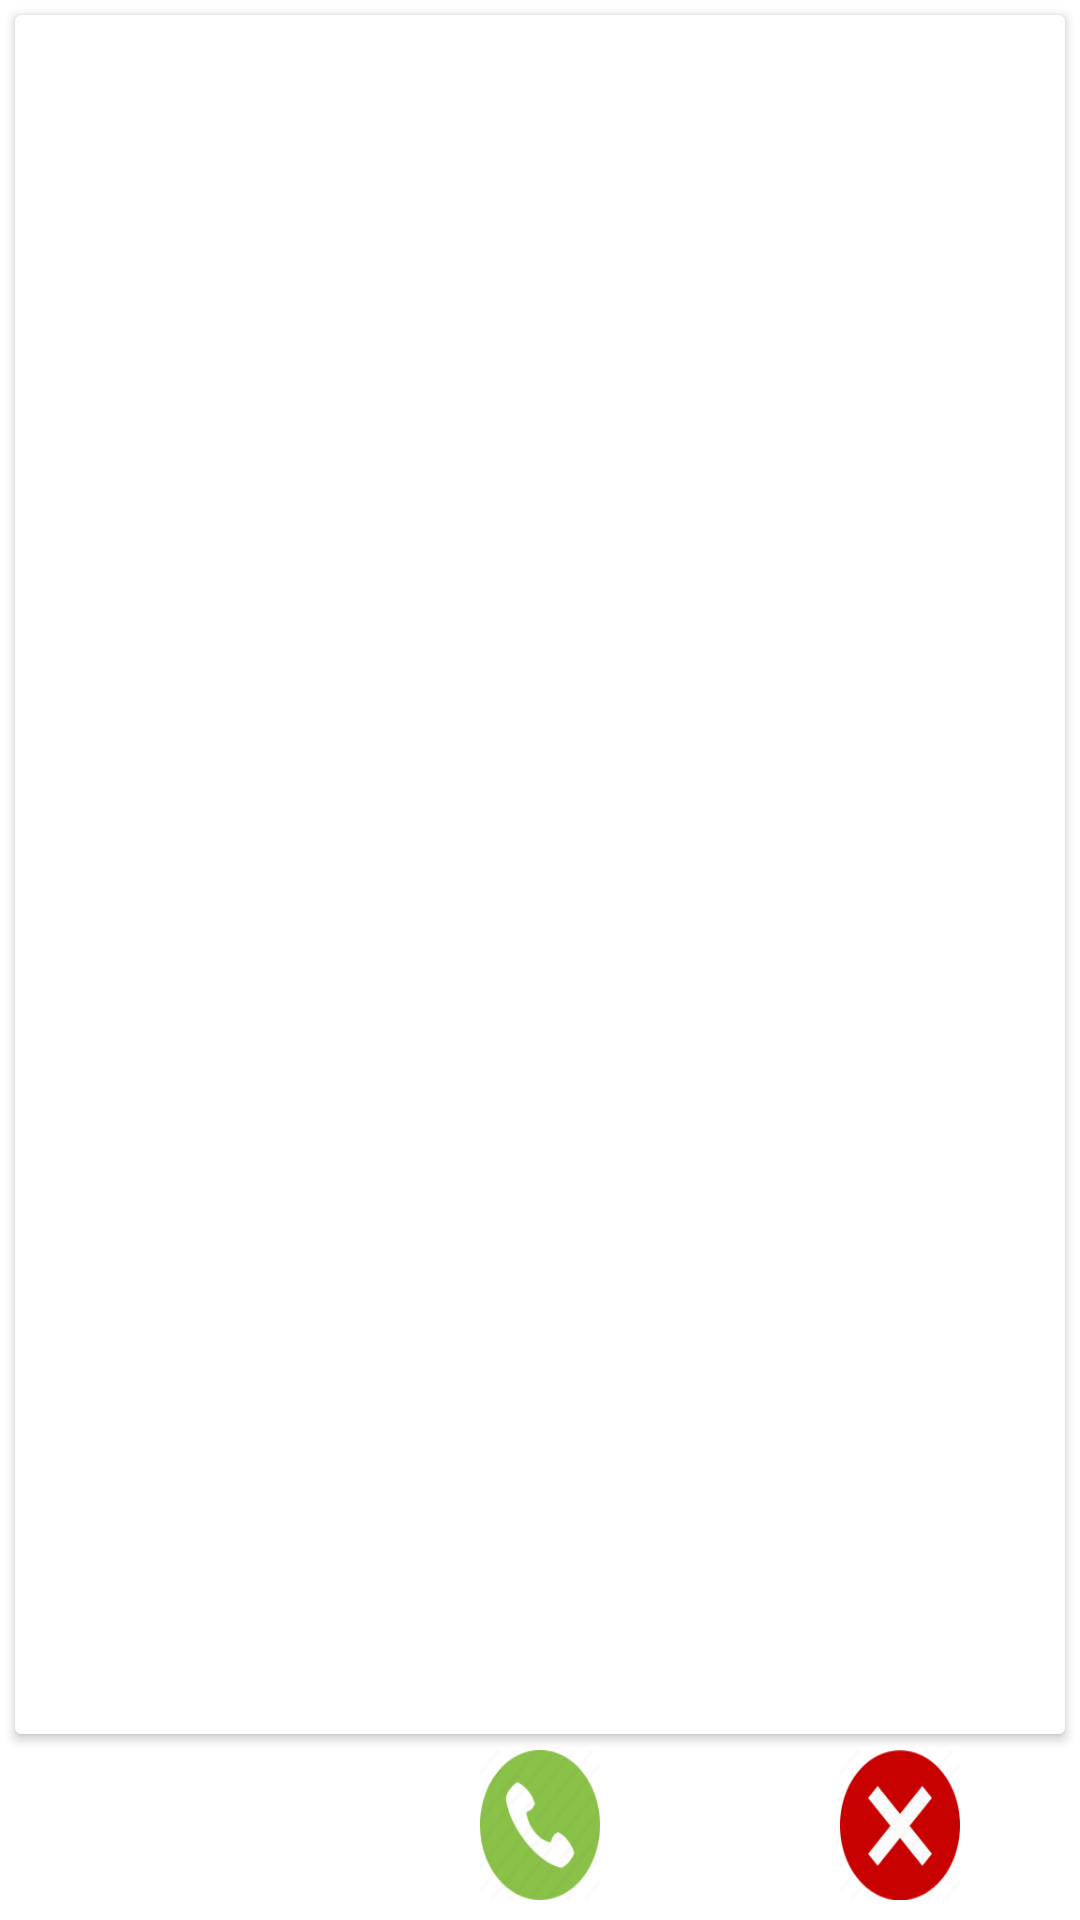

Where icons sit on this 1080px×1920px app screen, as (x1, y1, x2, y2):
call: (480, 1750, 600, 1900)
exit: (840, 1750, 960, 1900)
